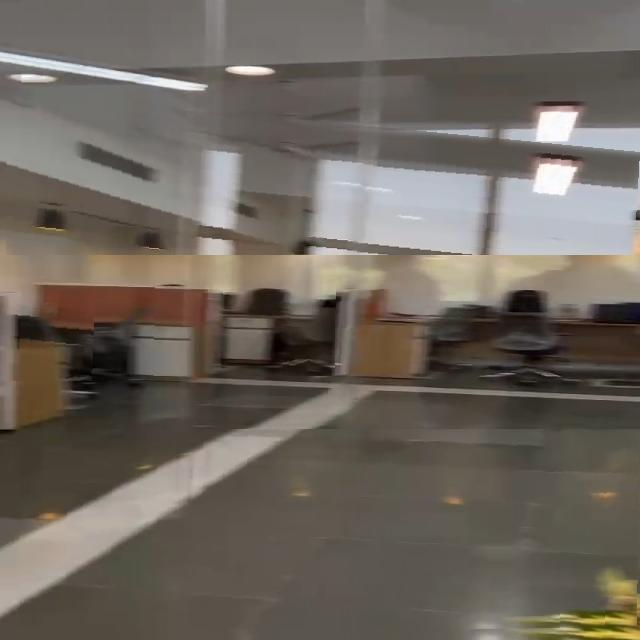floor: (0, 429, 640, 640)
furniture: (328, 287, 640, 400), (121, 274, 336, 376), (0, 294, 95, 381)
wall: (6, 91, 640, 255)
